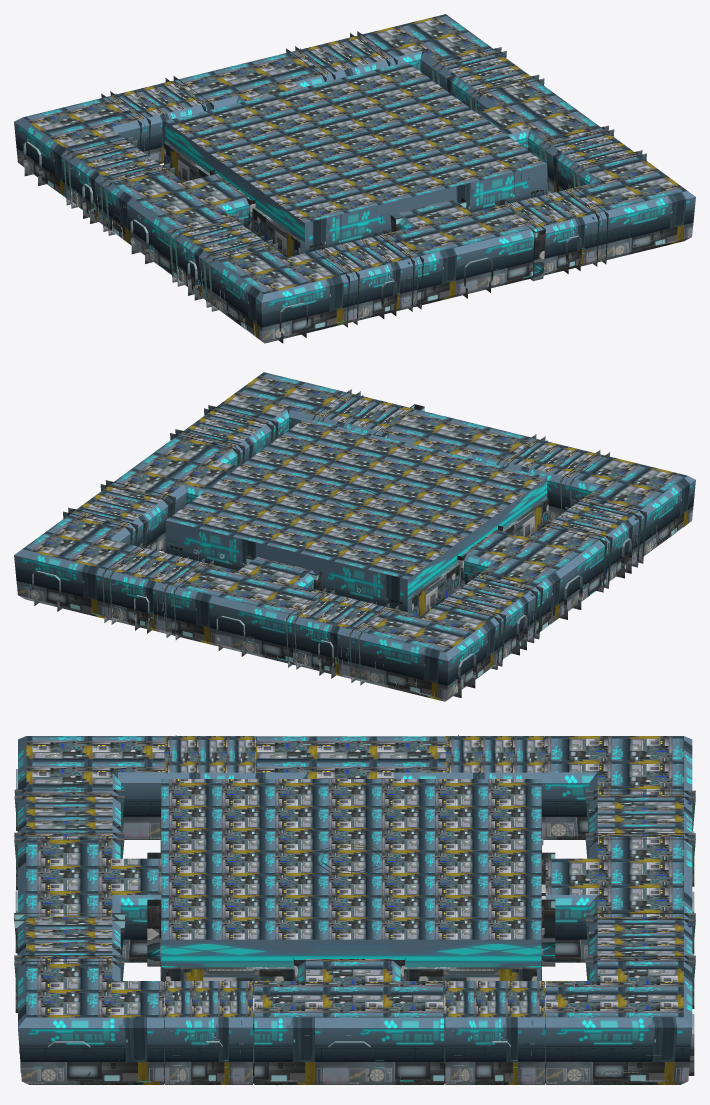
File: Combined_Mesh_root_scene__16_1995fef1__ZombiesII_laboratory_09_d_715a74b3_c1f257.obj
3 views of the same model, one above another, from view 1: azimuth 30°, elevation 25°; view 2: azimuth 150°, elevation 25°; view 3: azimuth 270°, elevation 25° (orthographic). The views are drawn at different scales.
Size of the model in its own units: 72.61 by 10.34 by 71.75.
Materials: 726 (726 with a texture image).
